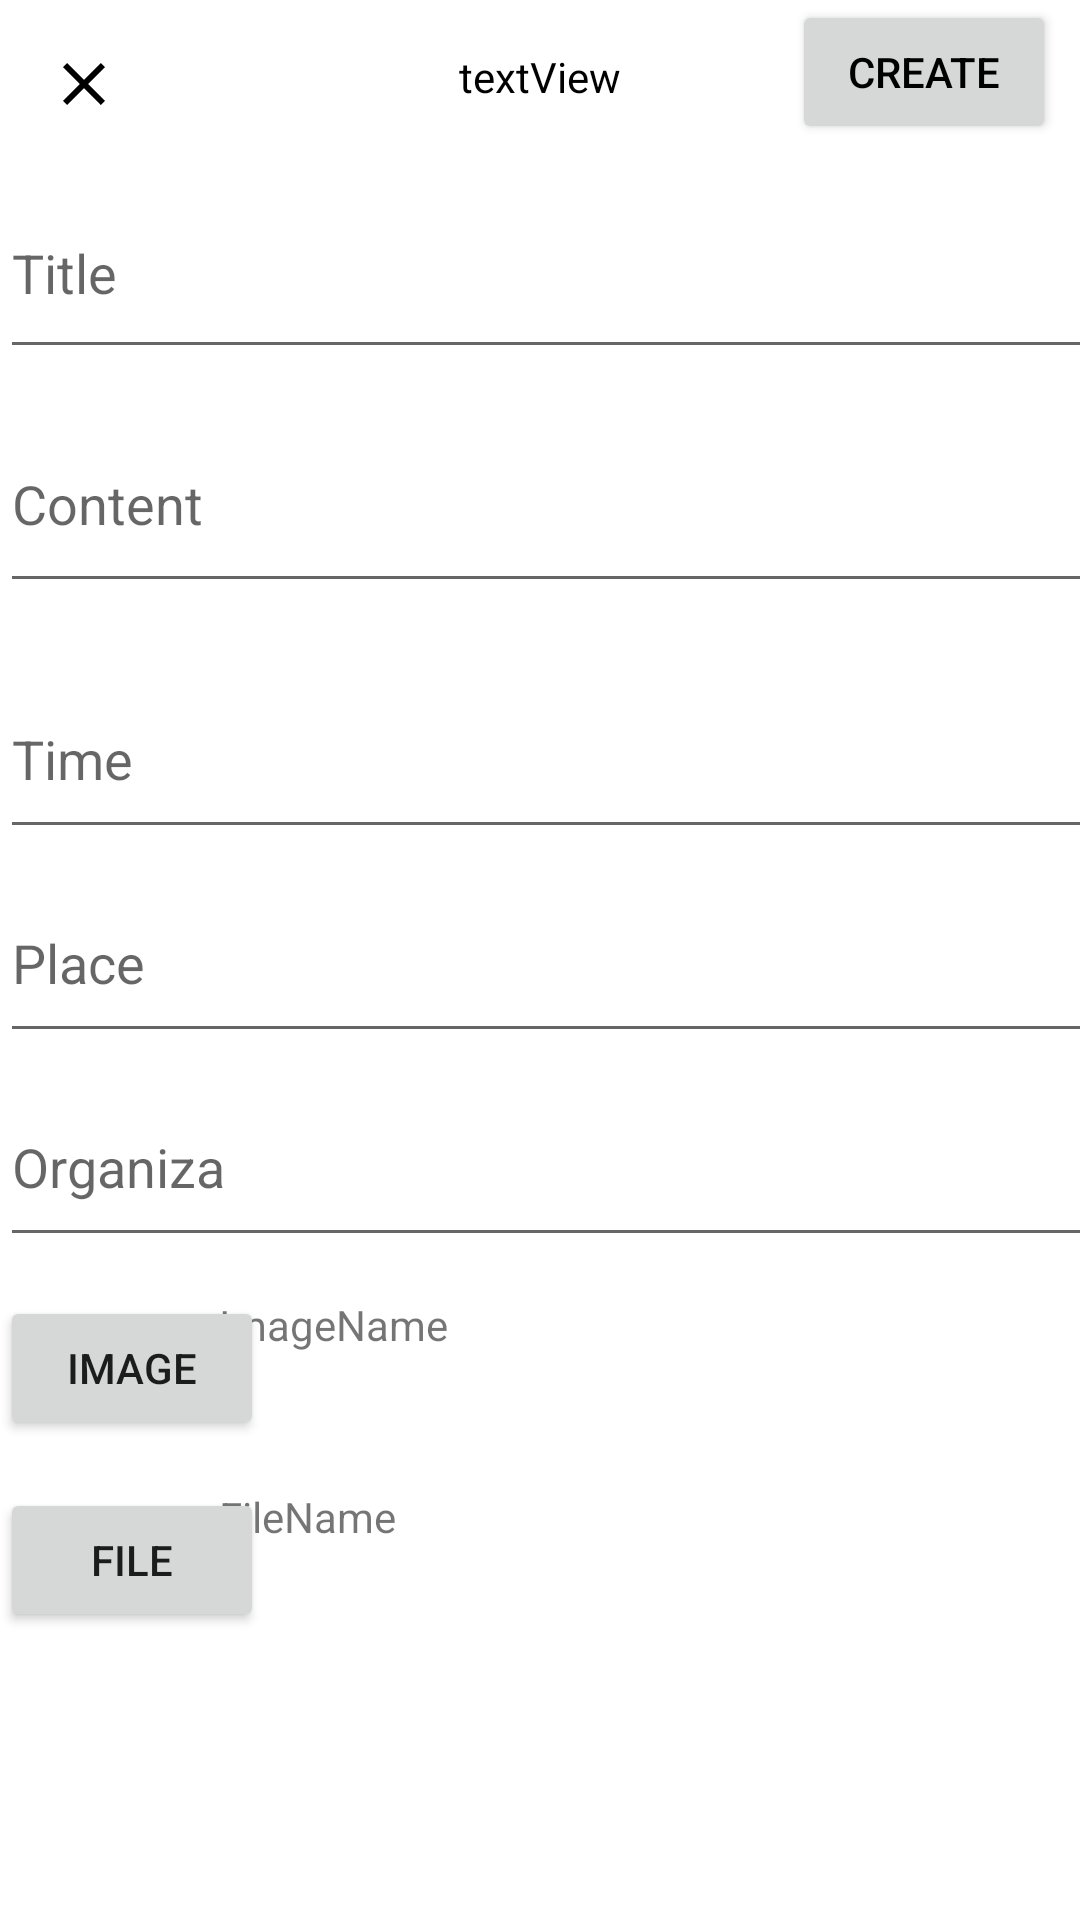

Icons on this 1080px×1920px Android screen, each with the point to tap as (x=x, y=y):
Exit: (x=84, y=84)
